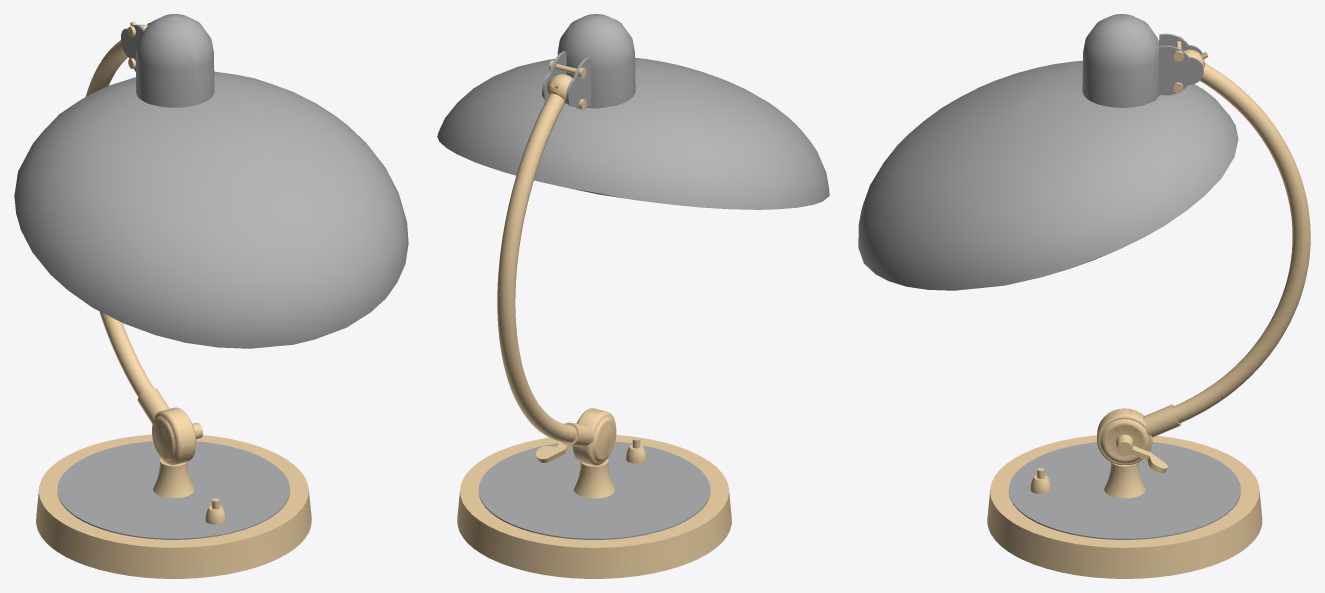
File: Lighting_Desk-Table-Lighting_Fritz-Hansen_KAISER-IdellT-6631-T-LUXUS.fbx
The picture shows the model from 3 angles, left to right: view 1: azimuth 30°, elevation 25°; view 2: azimuth 150°, elevation 25°; view 3: azimuth 270°, elevation 25°; orthographic projection.
Visible parts, largest first — view 1: L_ef3d0b10_4c08_4927_893d_39bf16782bad_I23, L_566e7c2e_9fbc_4836_9494_22b42f77276a_I12, L_e64824f4_dc7b_4050_a25a_48de2e02bda2_I22, L_1a054411_1242_43a8_a19c_5390c6d40d6e_I4, L_46d77f7e_be01_4001_b160_a52e9b7f43f5_I11, L_30477fd3_9cc4_4df1_bcc7_26eb39182cb5_I8, L_36ef7225_0ec9_467e_954e_b8976aaac13f_I9, L_2fb13250_5cf4_4b91_94dc_101e6235a66d_I6; view 2: L_ef3d0b10_4c08_4927_893d_39bf16782bad_I23, L_566e7c2e_9fbc_4836_9494_22b42f77276a_I12, L_e64824f4_dc7b_4050_a25a_48de2e02bda2_I22, L_46d77f7e_be01_4001_b160_a52e9b7f43f5_I11, L_1a054411_1242_43a8_a19c_5390c6d40d6e_I4, L_30477fd3_9cc4_4df1_bcc7_26eb39182cb5_I8, L_36ef7225_0ec9_467e_954e_b8976aaac13f_I9, L_be94b8f5_2205_470e_b6db_0d431e2f7188_I20; view 3: L_ef3d0b10_4c08_4927_893d_39bf16782bad_I23, L_566e7c2e_9fbc_4836_9494_22b42f77276a_I12, L_e64824f4_dc7b_4050_a25a_48de2e02bda2_I22, L_46d77f7e_be01_4001_b160_a52e9b7f43f5_I11, L_1a054411_1242_43a8_a19c_5390c6d40d6e_I4, L_30477fd3_9cc4_4df1_bcc7_26eb39182cb5_I8, L_6ef75b7b_1b30_4145_a417_8b33e0bac5dc_I14, L_36ef7225_0ec9_467e_954e_b8976aaac13f_I9, L_2fb13250_5cf4_4b91_94dc_101e6235a66d_I6.
Part boxes in pixels (x1,y1,x2,y2): L_ef3d0b10_4c08_4927_893d_39bf16782bad_I23: [14, 71, 408, 348]; L_566e7c2e_9fbc_4836_9494_22b42f77276a_I12: [57, 441, 290, 539]; L_e64824f4_dc7b_4050_a25a_48de2e02bda2_I22: [36, 434, 311, 578]; L_1a054411_1242_43a8_a19c_5390c6d40d6e_I4: [136, 14, 214, 107]; L_46d77f7e_be01_4001_b160_a52e9b7f43f5_I11: [85, 40, 153, 396]; L_30477fd3_9cc4_4df1_bcc7_26eb39182cb5_I8: [152, 407, 196, 465]; L_36ef7225_0ec9_467e_954e_b8976aaac13f_I9: [153, 458, 194, 498]; L_2fb13250_5cf4_4b91_94dc_101e6235a66d_I6: [137, 387, 169, 424]; L_ef3d0b10_4c08_4927_893d_39bf16782bad_I23: [437, 58, 829, 209]; L_566e7c2e_9fbc_4836_9494_22b42f77276a_I12: [478, 441, 710, 539]; L_e64824f4_dc7b_4050_a25a_48de2e02bda2_I22: [457, 435, 731, 578]; L_46d77f7e_be01_4001_b160_a52e9b7f43f5_I11: [497, 93, 576, 442]; L_1a054411_1242_43a8_a19c_5390c6d40d6e_I4: [557, 14, 635, 107]; L_30477fd3_9cc4_4df1_bcc7_26eb39182cb5_I8: [572, 408, 616, 465]; L_36ef7225_0ec9_467e_954e_b8976aaac13f_I9: [574, 459, 615, 498]; L_be94b8f5_2205_470e_b6db_0d431e2f7188_I20: [566, 57, 590, 109]; L_ef3d0b10_4c08_4927_893d_39bf16782bad_I23: [858, 60, 1238, 290]; L_566e7c2e_9fbc_4836_9494_22b42f77276a_I12: [1008, 442, 1240, 539]; L_e64824f4_dc7b_4050_a25a_48de2e02bda2_I22: [987, 435, 1262, 578]; L_46d77f7e_be01_4001_b160_a52e9b7f43f5_I11: [1172, 63, 1310, 423]; L_1a054411_1242_43a8_a19c_5390c6d40d6e_I4: [1082, 14, 1159, 107]; L_30477fd3_9cc4_4df1_bcc7_26eb39182cb5_I8: [1097, 408, 1152, 464]; L_6ef75b7b_1b30_4145_a417_8b33e0bac5dc_I14: [1158, 45, 1203, 95]; L_36ef7225_0ec9_467e_954e_b8976aaac13f_I9: [1104, 462, 1145, 498]; L_2fb13250_5cf4_4b91_94dc_101e6235a66d_I6: [1142, 404, 1181, 437].
Bounding box in the file's own units: 284 × 324 × 399.
